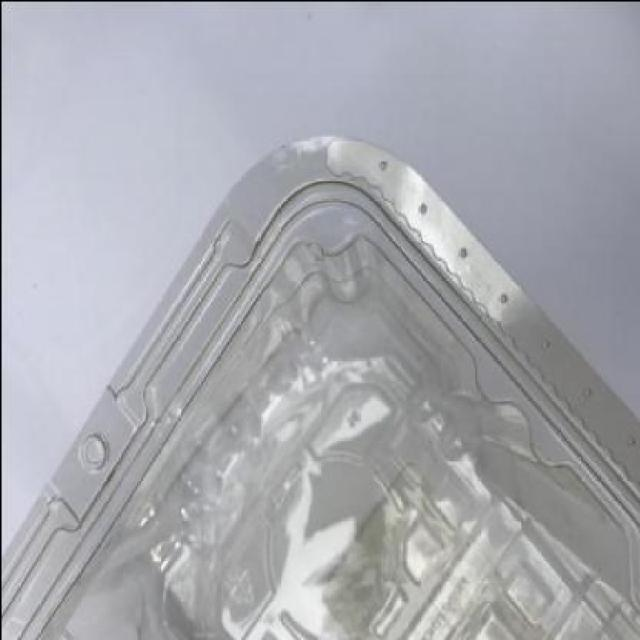PLASTIC: (1, 130, 638, 638)
